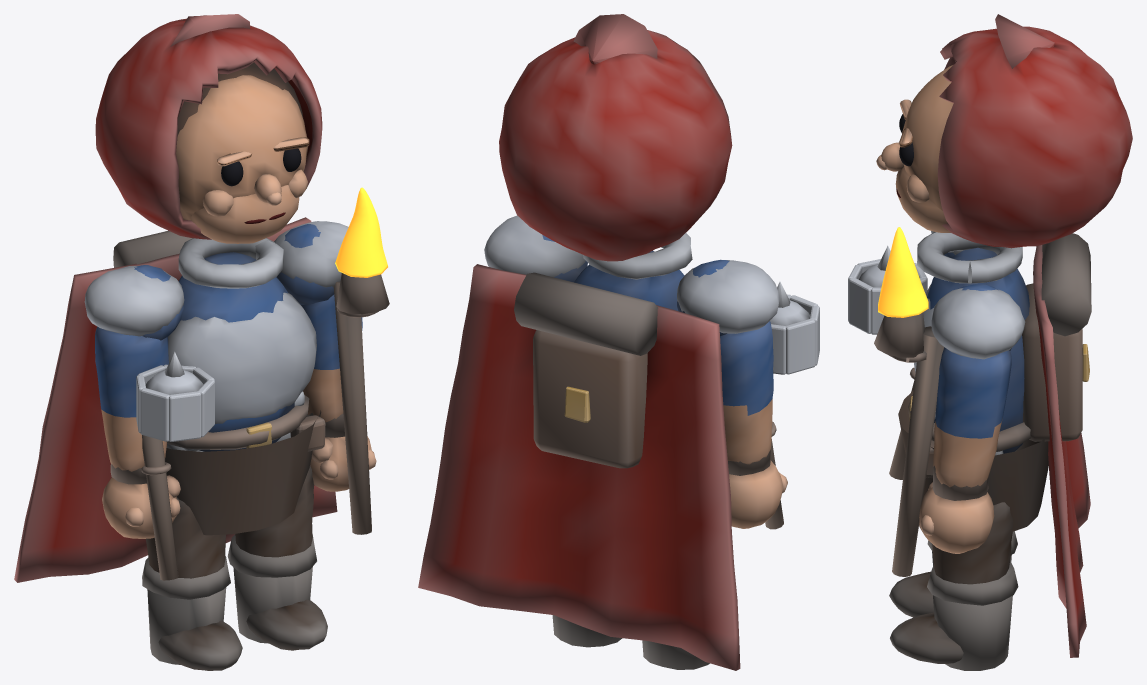
Rendered from hero.glb.
The picture shows the model from 3 angles, left to right: view 1: azimuth 30°, elevation 25°; view 2: azimuth 150°, elevation 25°; view 3: azimuth 270°, elevation 25°; orthographic projection. The views are drawn at different scales.
Parts seen in each view (by area): view 1: torso, head, cape, legR, legL, armR, weapon, torch, armL, flame; view 2: cape, head, torso, armR, weapon, legR, legL; view 3: head, torso, armL, legL, cape, torch, weapon, flame, legR.
Part boxes in pixels (x1,y1,x2,y2): torso: [84, 221, 348, 535]; head: [95, 14, 322, 243]; cape: [14, 217, 337, 582]; legR: [142, 497, 242, 670]; legL: [227, 465, 327, 650]; armR: [95, 326, 180, 538]; weapon: [136, 352, 214, 580]; torch: [333, 273, 389, 534]; armL: [301, 294, 376, 491]; flame: [335, 187, 387, 277]; cape: [418, 264, 740, 670]; head: [499, 14, 732, 261]; torso: [484, 215, 779, 468]; armR: [720, 321, 787, 528]; weapon: [765, 281, 819, 529]; legR: [642, 640, 709, 669]; legL: [552, 615, 622, 647]; head: [876, 14, 1132, 248]; torso: [898, 231, 1091, 531]; armL: [919, 347, 1011, 553]; legL: [890, 502, 1018, 670]; cape: [1033, 245, 1090, 657]; torch: [874, 312, 944, 576]; weapon: [848, 245, 927, 479]; flame: [878, 227, 928, 317]; legR: [889, 450, 1017, 617].
Bounding box in the file's own units: 0.5413 × 1.02 × 0.4261.
